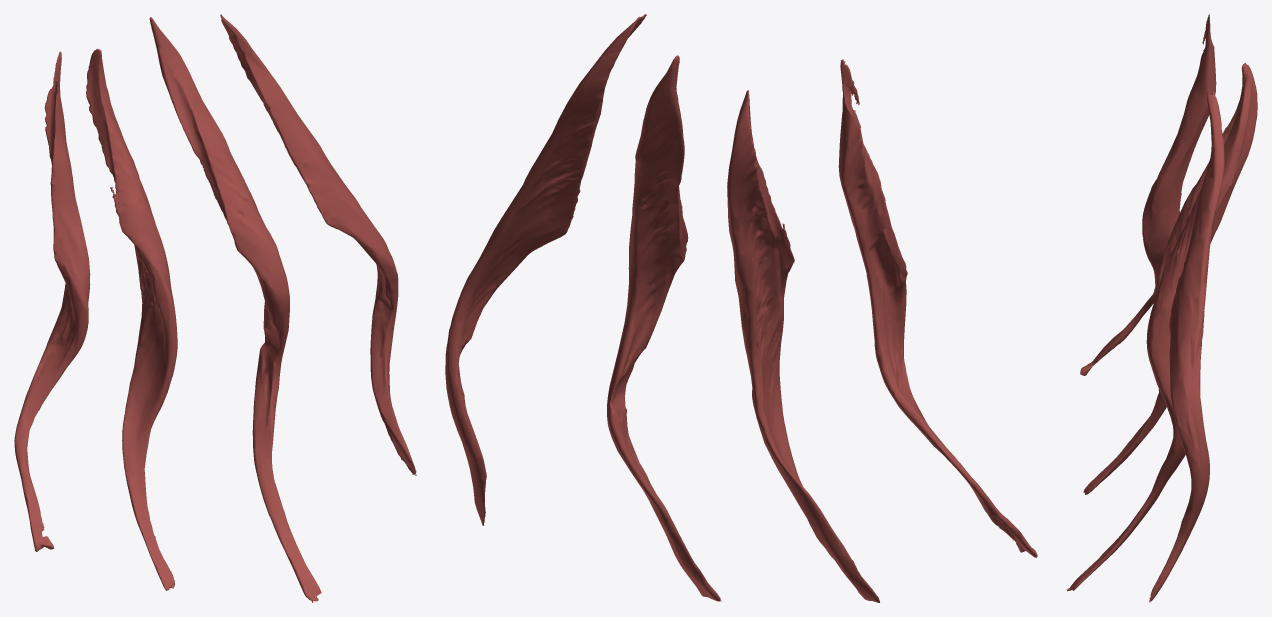
File: FMA42399.glb
The picture shows the model from 3 angles, left to right: view 1: azimuth 30°, elevation 25°; view 2: azimuth 150°, elevation 25°; view 3: azimuth 270°, elevation 25°; orthographic projection. The views are drawn at different scales.
Parts seen in each view (by area): view 1: FMA42399; view 2: FMA42399; view 3: FMA42399.
Boxes of the visible parts, x1,y1,x2,y2 form: FMA42399: (14, 14, 416, 602); FMA42399: (445, 14, 1037, 602); FMA42399: (1067, 14, 1257, 602).
Bounding box in the file's own units: 0.0733 × 0.0899 × 0.0314.
